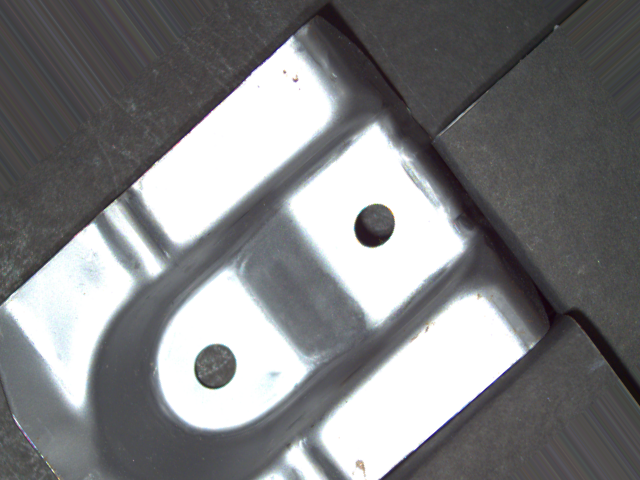defect: (192, 337, 242, 394)
